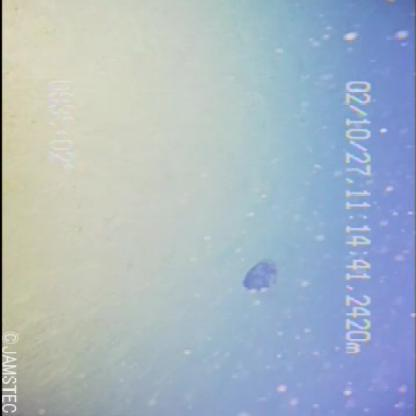Rác: (226, 246, 296, 310)
